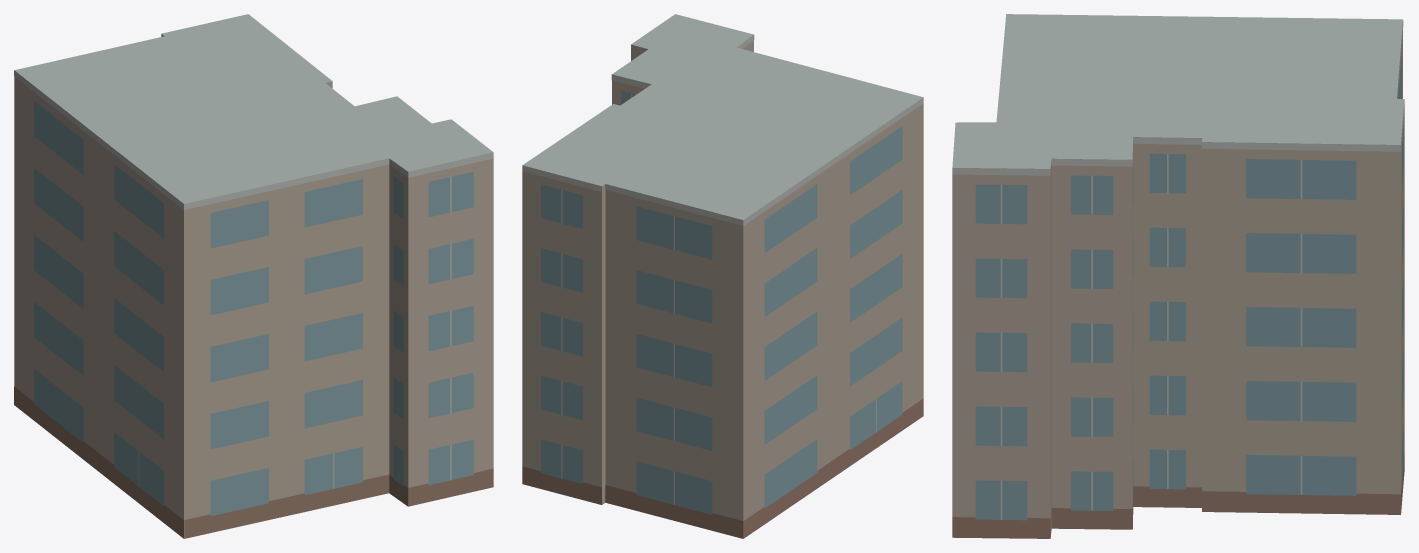
File: survey-upis-32499281.glb
The picture shows the model from 3 angles, left to right: view 1: azimuth 30°, elevation 25°; view 2: azimuth 150°, elevation 25°; view 3: azimuth 270°, elevation 25°; orthographic projection. The views are drawn at different scales.
Parts seen in each view (by area): view 1: survey-upis-32499281.tmp; view 2: survey-upis-32499281.tmp; view 3: survey-upis-32499281.tmp.
Boxes of the visible parts, x1,y1,x2,y2 form: survey-upis-32499281.tmp: (14,14,493,538); survey-upis-32499281.tmp: (522,14,923,538); survey-upis-32499281.tmp: (952,14,1404,538).
Bounding box in the file's own units: 11.96 × 13.3 × 14.75.
